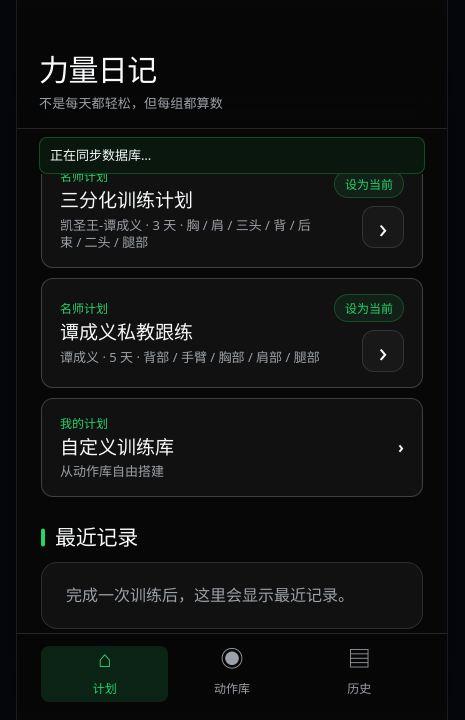
Test: fitness PWA user flows › home shows two separate entries: builtin coach plan and custom library
The width and height of the screenshot is (465, 720).
(page scrolled)
Expected: the button named "进入三分化训练计划" is shown, [362,206,404,248]
Expected: the button named "进入谭成义私教跟练" is shown, [362,330,404,372]
 进入我的计划库
Click the button with aria-label "进入我的计划" at (84, 423), box [41,398,423,497]
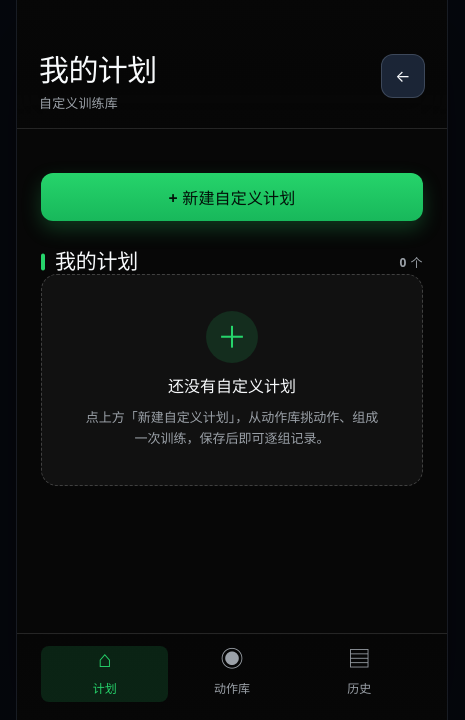
Now the button "+ 新建自定义计划" is shown, box [41,173,423,221]
